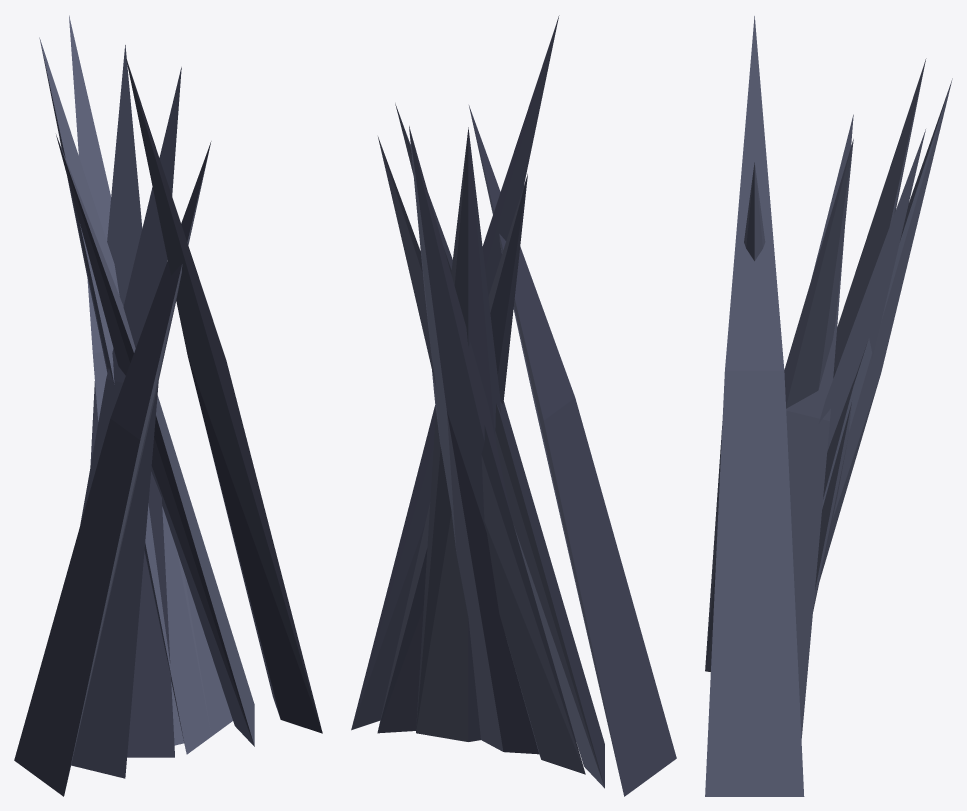
Rendered from TW_VEG_GRASS_FAN_B_LOD0.glb.
3 views of the same model, side by side, from view 1: azimuth 30°, elevation 25°; view 2: azimuth 150°, elevation 25°; view 3: azimuth 270°, elevation 25° (orthographic). The views are drawn at different scales.
Parts seen in each view (by area): view 1: TW_VEG_GRASS_FAN_B_LOD0; view 2: TW_VEG_GRASS_FAN_B_LOD0; view 3: TW_VEG_GRASS_FAN_B_LOD0.
Part boxes in pixels (x1,y1,x2,y2): TW_VEG_GRASS_FAN_B_LOD0: [14, 15, 322, 796]; TW_VEG_GRASS_FAN_B_LOD0: [351, 15, 676, 796]; TW_VEG_GRASS_FAN_B_LOD0: [705, 16, 952, 796].
Bounding box in the file's own units: 0.27 × 0.7003 × 0.225.
1 material, 1 textured.
